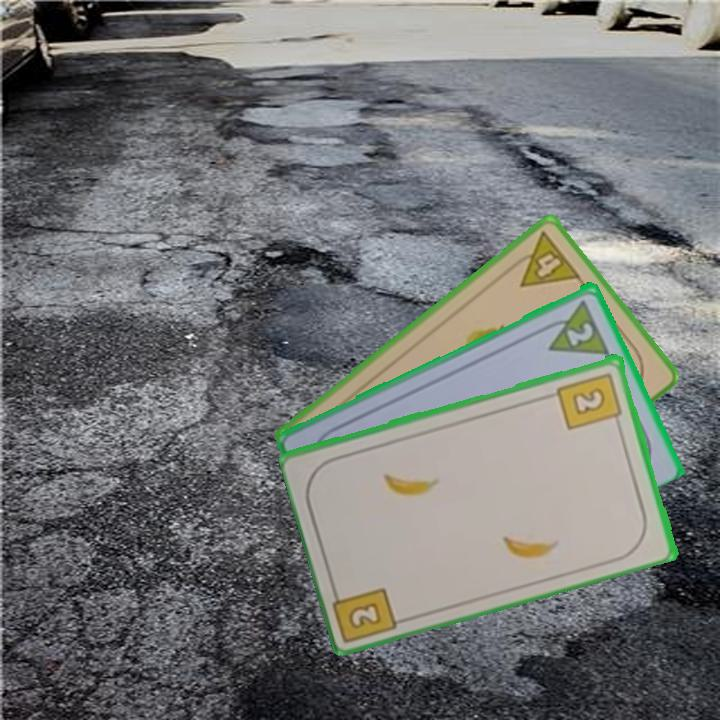2b: (554, 368, 625, 432), (330, 580, 403, 642)
2p: (563, 318, 597, 348)
4p: (504, 228, 584, 290)
